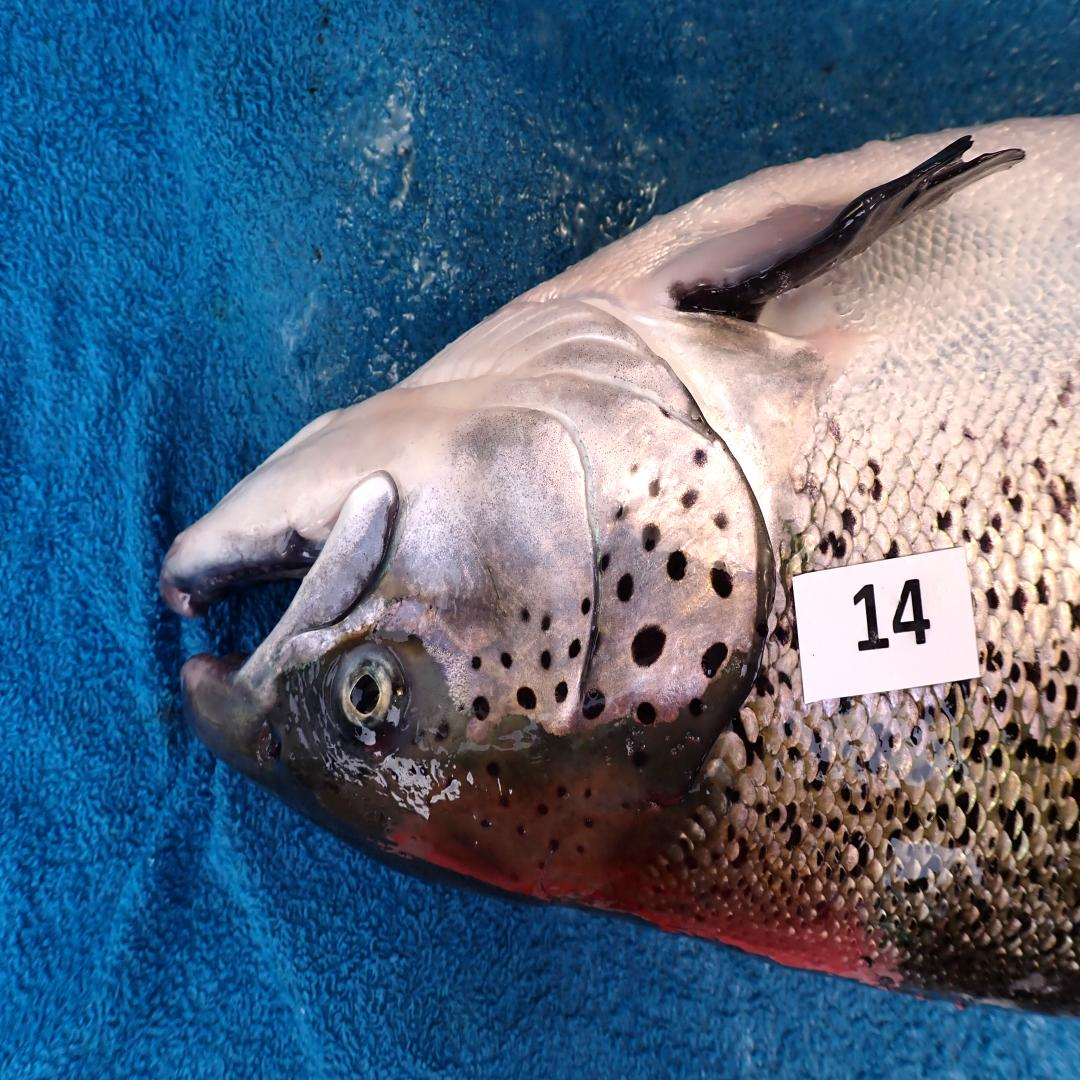roi: (395, 289, 771, 733)
